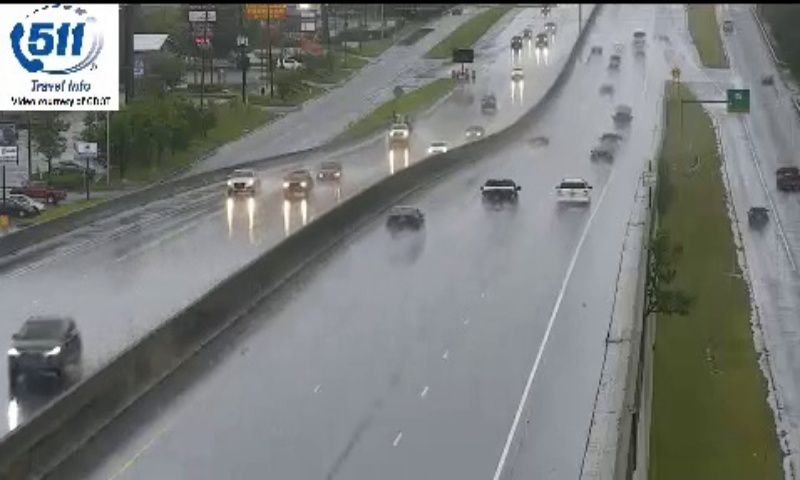car: (480, 179, 518, 209), (388, 205, 425, 232), (555, 179, 590, 205)
